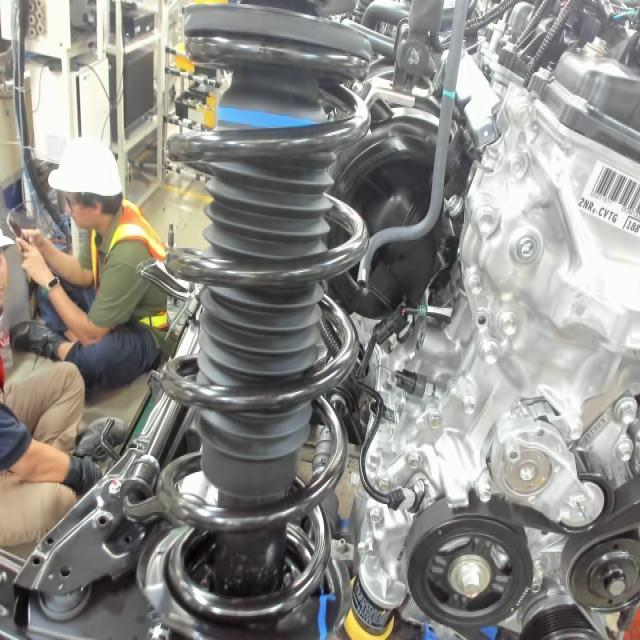Bumper-BR: (210, 102, 328, 141)
Engine Assy-188: (620, 216, 640, 240)
Hose Canister-HJ: (441, 84, 459, 103)
